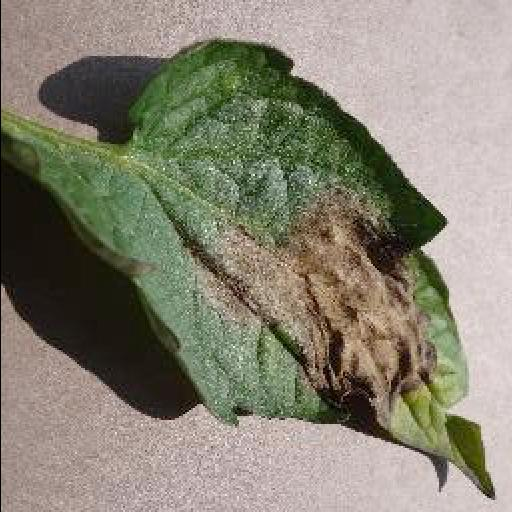disease_tomato: (0, 34, 494, 498)
